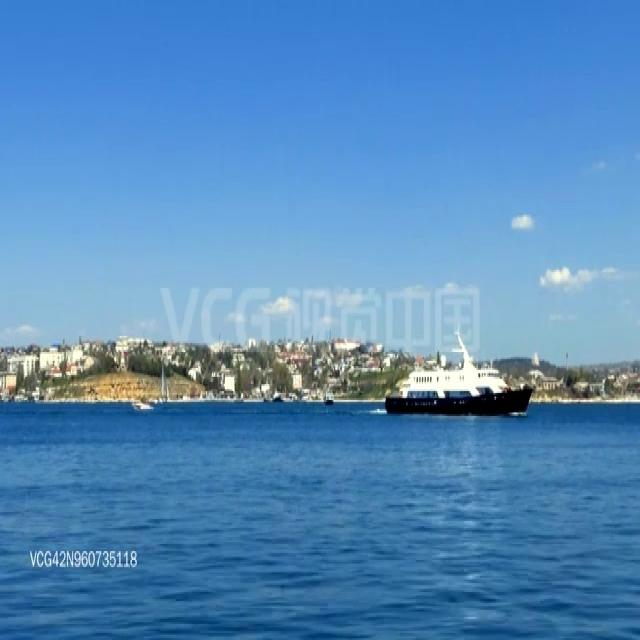passenger ship: (387, 342, 534, 419)
